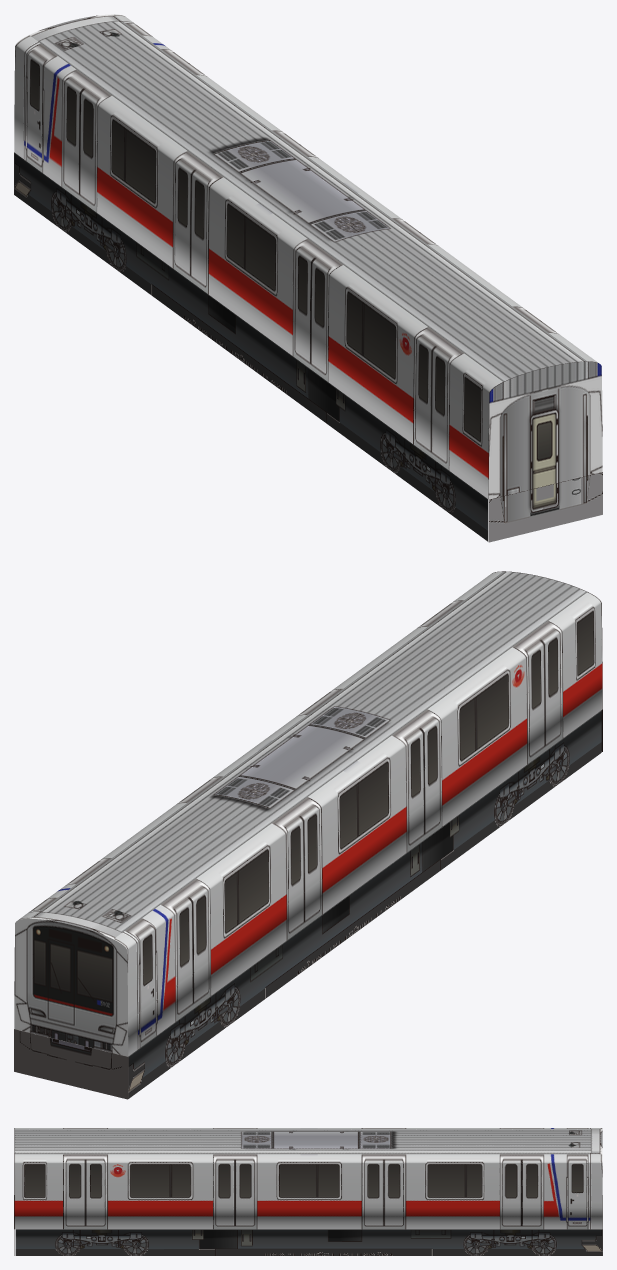
File: car3.glb
The picture shows the model from 3 angles, top to bottom: view 1: azimuth 30°, elevation 25°; view 2: azimuth 150°, elevation 25°; view 3: azimuth 270°, elevation 25°; orthographic projection. The views are drawn at different scales.
Parts seen in each view (by area): view 1: tokyu-5080-car3; view 2: tokyu-5080-car3; view 3: tokyu-5080-car3.
Boxes of the visible parts, left/top/right/bottom form: tokyu-5080-car3: left=14, top=14, right=602, bottom=542; tokyu-5080-car3: left=14, top=571, right=602, bottom=1099; tokyu-5080-car3: left=14, top=1128, right=602, bottom=1255.
Size of the model in its own units: 2.8 by 3.77 by 20.23.
Materials: 8 (7 with a texture image).
